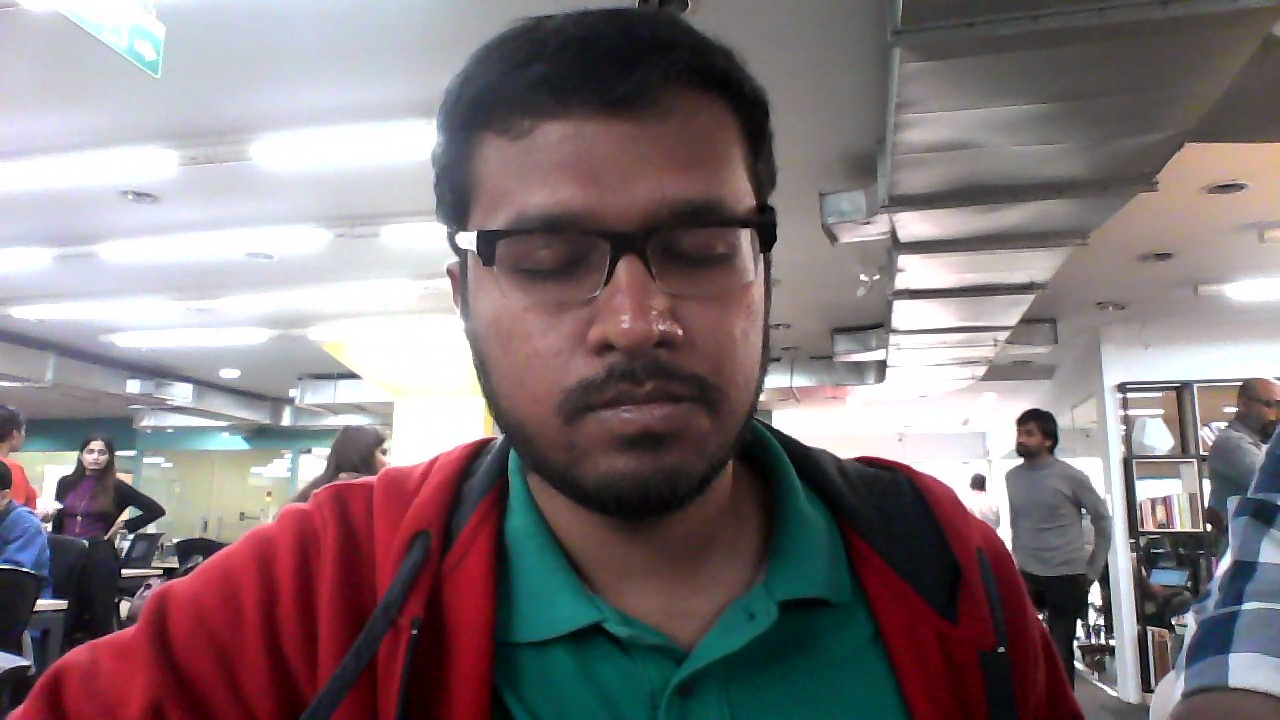closed: (437, 11, 782, 510)
